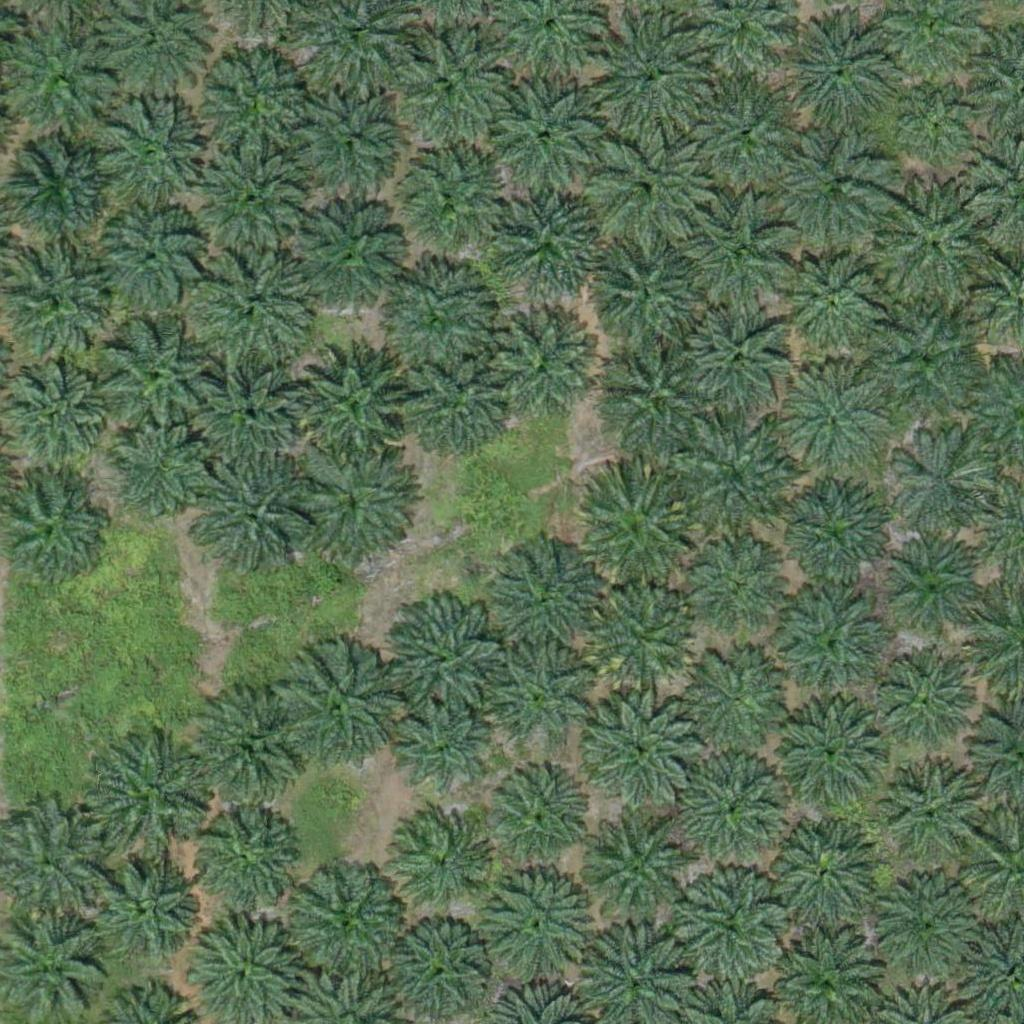Kelapa_Sawit: (85, 97, 210, 223), (90, 317, 215, 443), (195, 137, 320, 263), (194, 245, 319, 371), (190, 453, 315, 579), (376, 27, 501, 153), (289, 338, 414, 464), (293, 442, 418, 568), (586, 12, 711, 138), (582, 127, 707, 253), (878, 183, 1003, 309), (380, 596, 505, 722), (274, 649, 399, 775), (91, 734, 216, 860), (283, 857, 408, 983), (195, 43, 320, 168), (381, 138, 506, 263), (370, 256, 495, 381), (573, 471, 698, 596), (3, 247, 116, 361), (104, 416, 217, 530), (687, 78, 800, 192), (193, 688, 306, 802), (6, 135, 119, 248), (290, 201, 403, 314), (291, 87, 404, 200), (396, 346, 509, 459), (683, 303, 796, 416), (680, 199, 793, 312), (779, 483, 892, 596), (769, 694, 882, 807), (587, 690, 700, 803), (584, 817, 697, 930), (477, 864, 590, 977), (779, 19, 891, 133), (781, 133, 893, 247), (869, 312, 981, 426), (96, 205, 208, 318), (188, 361, 300, 474), (487, 309, 599, 422), (494, 184, 606, 297), (486, 81, 598, 194), (591, 241, 703, 354), (598, 339, 710, 452), (680, 426, 792, 539), (765, 815, 877, 928), (678, 642, 790, 755), (679, 752, 791, 865), (677, 868, 789, 981), (787, 368, 887, 469), (881, 539, 981, 640), (874, 650, 974, 751), (878, 757, 978, 858), (876, 874, 976, 975), (782, 592, 882, 693), (685, 535, 785, 636), (591, 585, 691, 686), (501, 547, 601, 648), (489, 645, 589, 746), (485, 766, 585, 867), (391, 698, 491, 799), (94, 857, 194, 958), (780, 251, 880, 351), (887, 436, 987, 536), (389, 813, 489, 913), (387, 922, 487, 1022), (193, 806, 293, 906), (902, 90, 977, 166)
